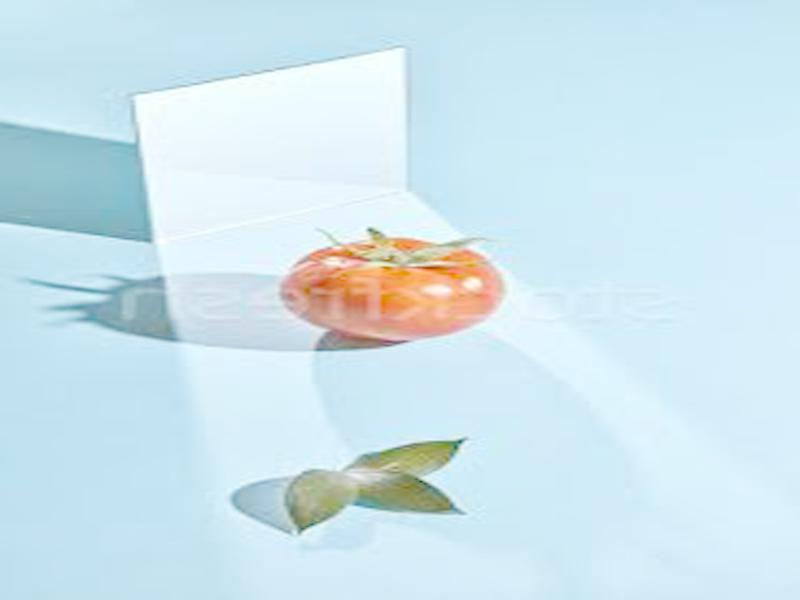Tomato: (279, 236, 510, 340)
